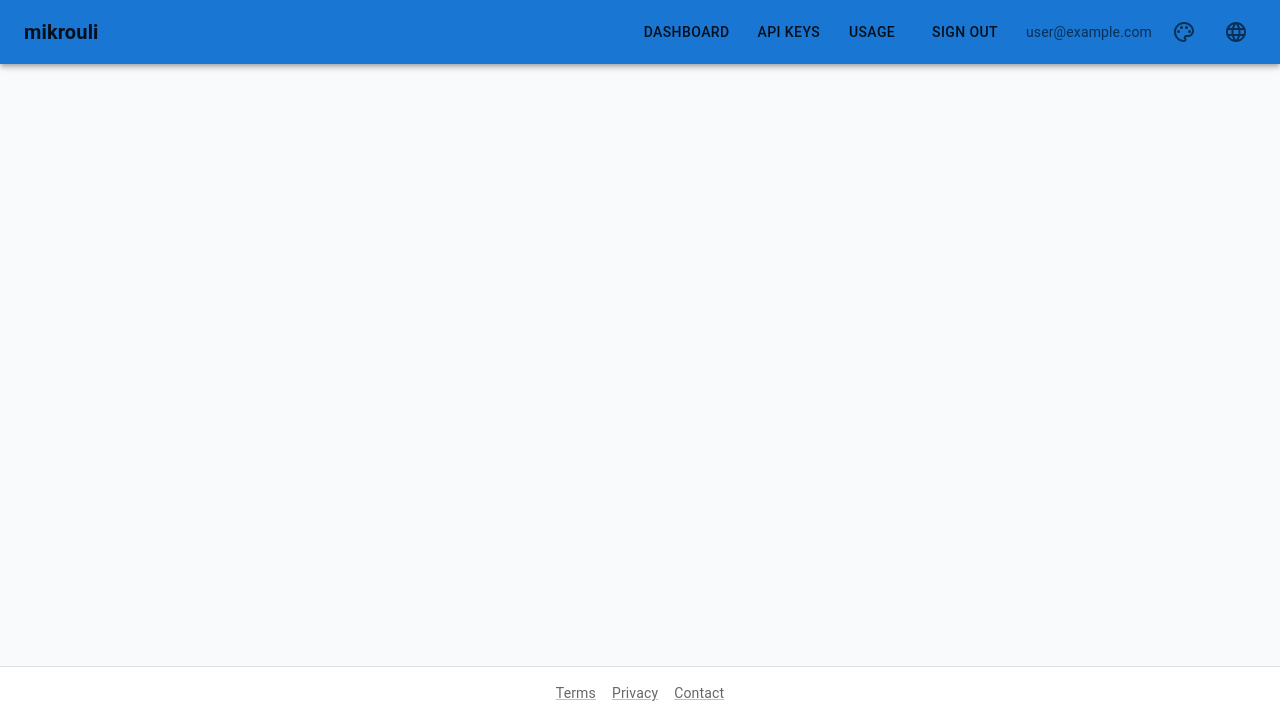
Test: AppShell › one activation of a settings reach opens the setting pair over the kept place
This screenshot has width=1280, height=720.
Click the button with test id "settings-mode-reach".
click(1184, 32)  # box [1164,12,1204,52]
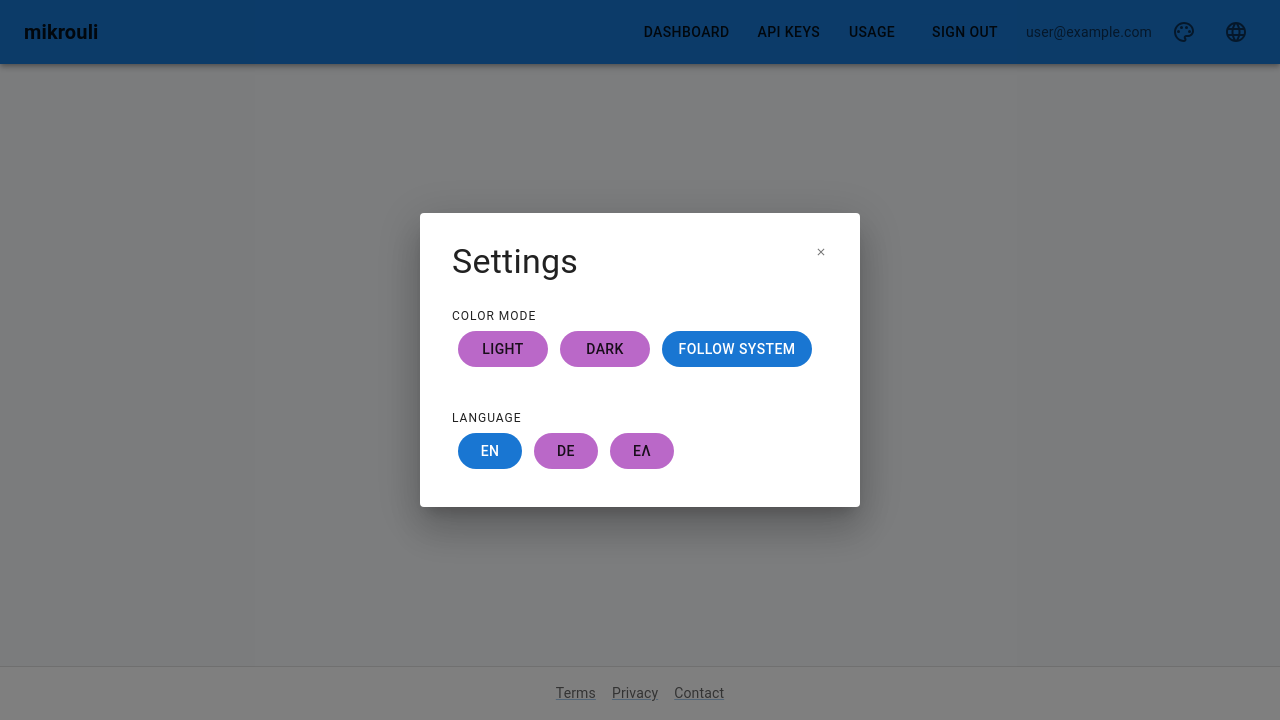
Expected: the footer with test id "footer" is shown, [0,666,1279,719]
Result: the element with test id "settings-panel" is shown
